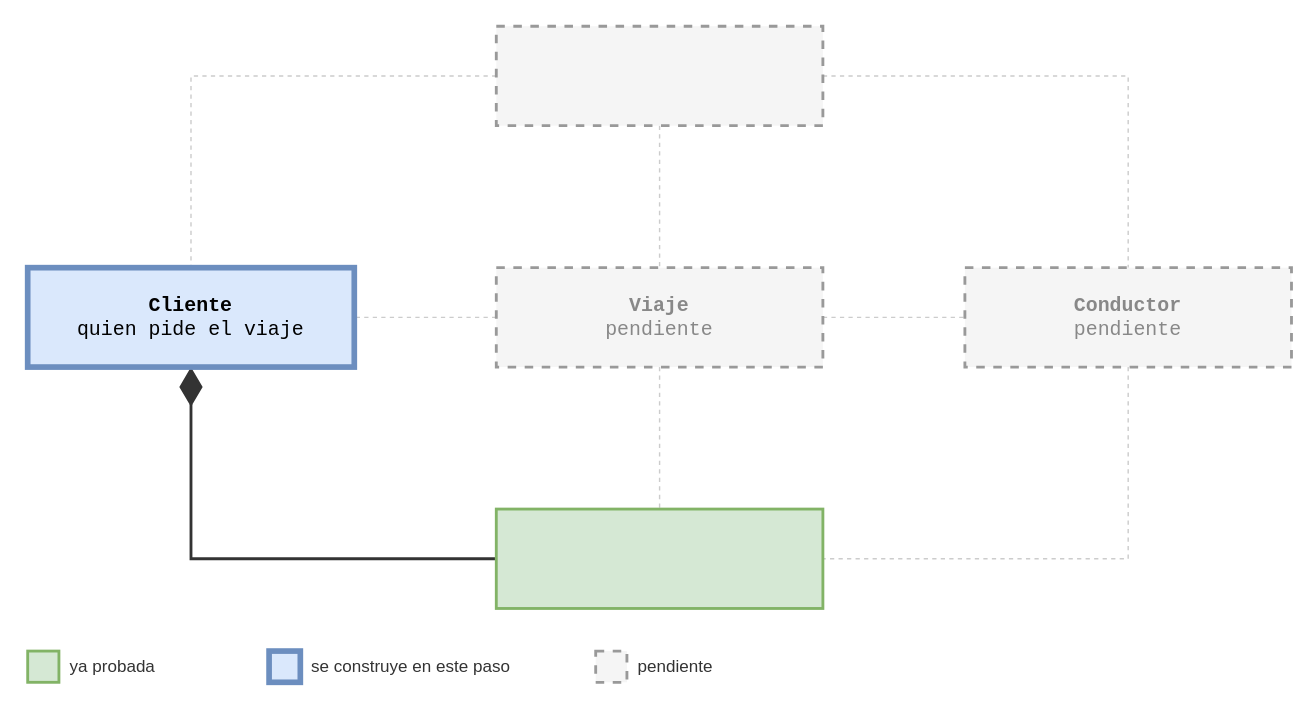
The diagram is 1316 pixels wide and 709 high, and some of its shapes have lost their labels. The centre of each missing label's shape, as x and y in pixels:
"Plataforma pendiente" goes at point (659, 75).
"Punto ✓ probada" goes at point (659, 558).
